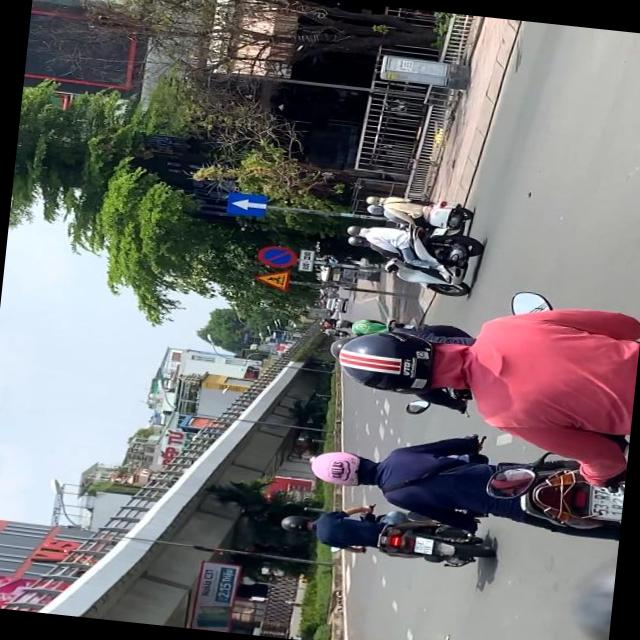I-407a: (228, 192, 268, 217)
P-131a: (254, 242, 300, 268)
